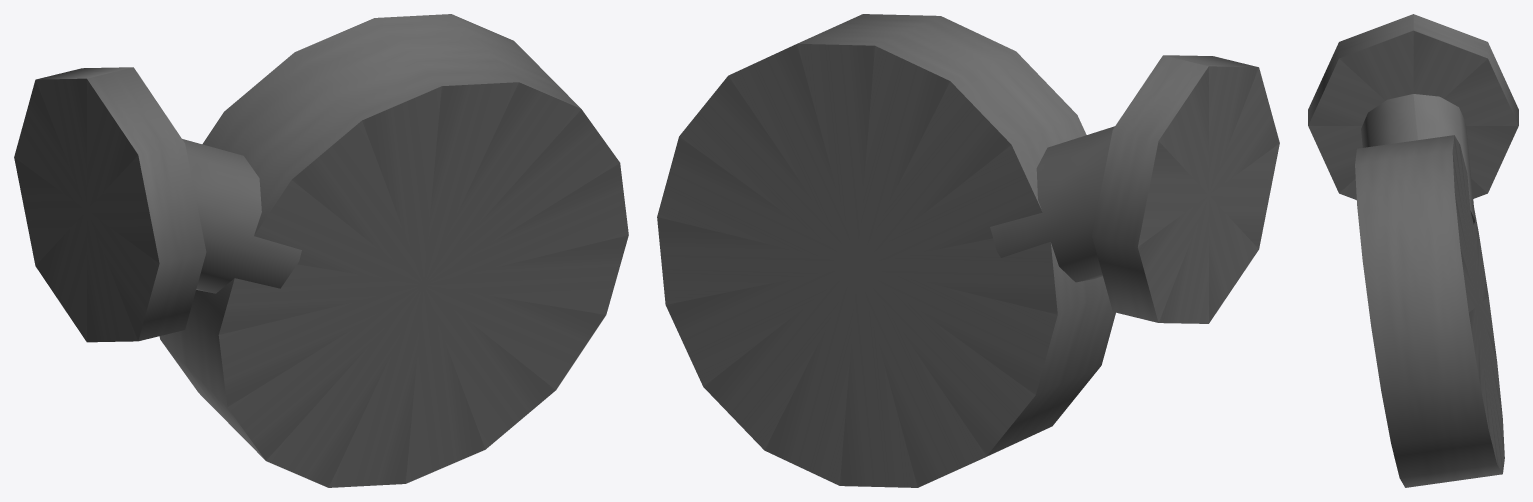
File: mastarmcurve_8x2_c7_west.obj
The picture shows the model from 3 angles, left to right: view 1: azimuth 30°, elevation 25°; view 2: azimuth 150°, elevation 25°; view 3: azimuth 270°, elevation 25°; orthographic projection. The views are drawn at different scales.
Parts seen in each view (by area): view 1: mastarm_8x2_c7_west; view 2: mastarm_8x2_c7_west; view 3: mastarm_8x2_c7_west.
Part boxes in pixels (x1,y1,x2,y2): mastarm_8x2_c7_west: [14, 14, 628, 487]; mastarm_8x2_c7_west: [657, 14, 1279, 487]; mastarm_8x2_c7_west: [1308, 14, 1518, 487].
Bounding box in the file's own units: 0.8249 × 0.7265 × 0.4.
